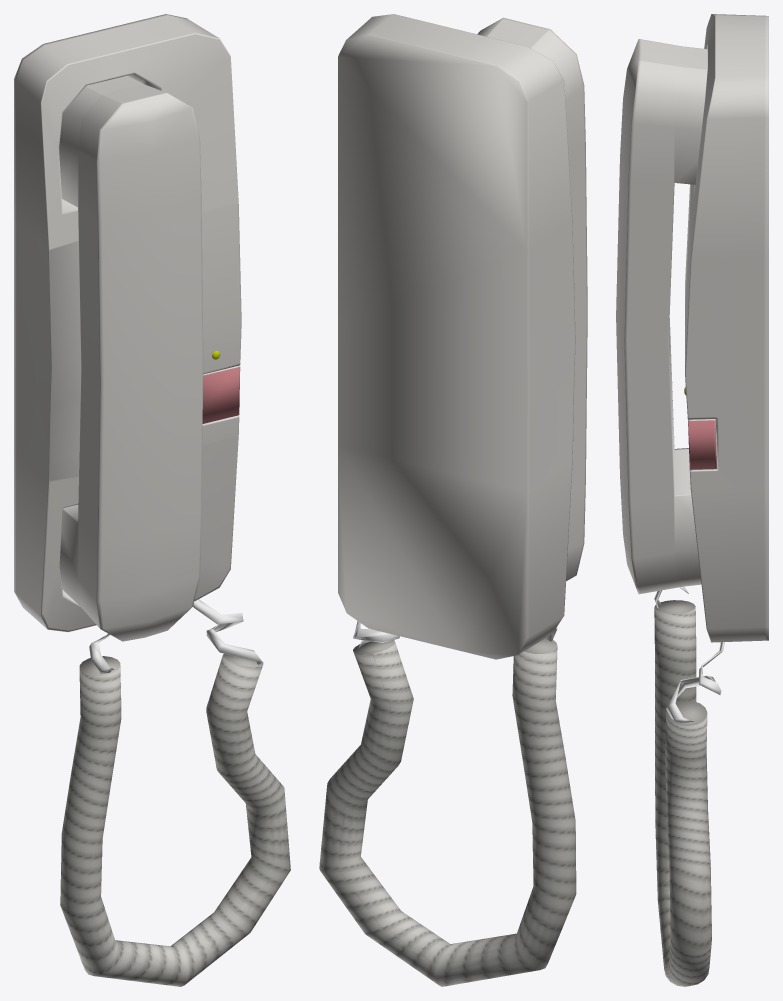
File: sweethome3d-scopia-intercom-139.glb
3 renders of one model, left to right at view 1: azimuth 30°, elevation 25°; view 2: azimuth 150°, elevation 25°; view 3: azimuth 270°, elevation 25°, orthographic. The views are drawn at different scales.
Visible parts, largest first — view 1: Cube, Cube.001, Cube.003; view 2: Cube, Cube.001; view 3: Cube, Cube.001, Cube.003.
Part boxes in pixels (x1,y1,x2,y2): Cube: [14, 14, 241, 641]; Cube.001: [60, 654, 290, 986]; Cube.003: [193, 599, 261, 664]; Cube: [338, 14, 587, 659]; Cube.001: [319, 638, 576, 986]; Cube: [616, 14, 768, 642]; Cube.001: [654, 600, 711, 986]; Cube.003: [666, 642, 724, 722].
Size of the model in its own units: 9.77 by 36.38 by 5.44.
5 materials, 1 textured.
